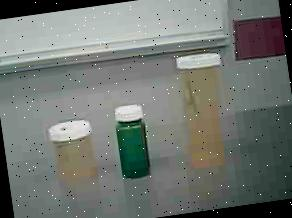Bottle A: (174, 46, 239, 174)
Bottle B: (45, 114, 101, 186)
Bottle C: (107, 99, 159, 188)
